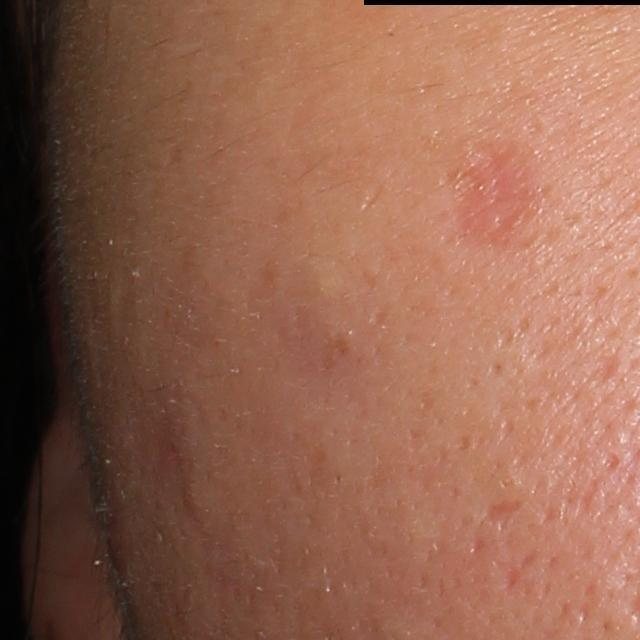atrophic_scar: (453, 128, 538, 248), (477, 494, 527, 534), (579, 354, 624, 392)
